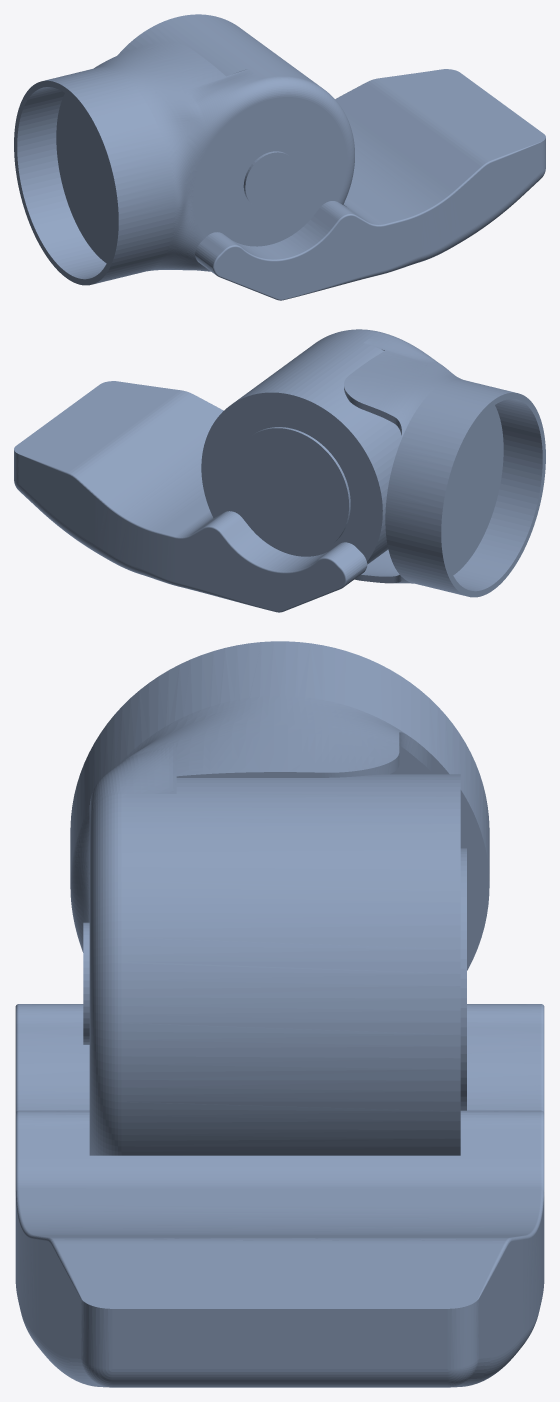
The model's file is z1_GripperStator.dae.
The picture shows the model from 3 angles, top to bottom: view 1: azimuth 30°, elevation 25°; view 2: azimuth 150°, elevation 25°; view 3: azimuth 270°, elevation 25°; orthographic projection. The views are drawn at different scales.
Visible parts, largest first — view 1: UArm-V3.6-3-Graipper-Fixed jaw assembly; view 2: UArm-V3.6-3-Graipper-Fixed jaw assembly; view 3: UArm-V3.6-3-Graipper-Fixed jaw assembly.
Part boxes in pixels (x1,y1,x2,y2): UArm-V3.6-3-Graipper-Fixed jaw assembly: (14, 14, 545, 300); UArm-V3.6-3-Graipper-Fixed jaw assembly: (14, 329, 545, 612); UArm-V3.6-3-Graipper-Fixed jaw assembly: (15, 641, 544, 1387).
Bounding box in the file's own units: 0.156 × 0.082 × 0.0688.
